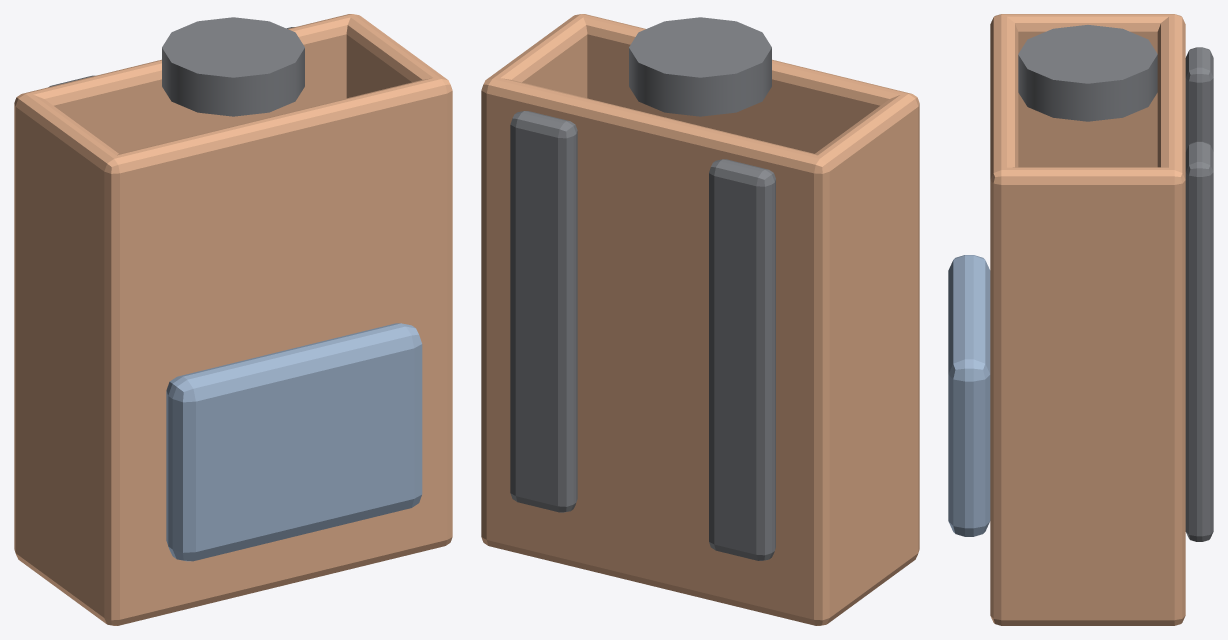
The model's file is backpack.glb.
3 renders of one model, left to right at view 1: azimuth 30°, elevation 25°; view 2: azimuth 150°, elevation 25°; view 3: azimuth 270°, elevation 25°, orthographic. The views are drawn at different scales.
Visible parts, largest first — view 1: bp_front, pocket, bp_left, bp_back, handle.001, bp_right; view 2: bp_back, bp_left, strapR, strapL, bp_front, handle.001, bp_right; view 3: bp_right, bp_back, pocket, handle.001, strapR, bp_front, bp_left, strapL.
Part boxes in pixels (x1,y1,x2,y2): bp_front: (101,77,452,625); pocket: (166,323,422,561); bp_left: (14,92,124,625); bp_back: (14,14,361,561); handle.001: (162,17,304,116); bp_right: (344,14,452,546); bp_back: (481,77,832,625); bp_left: (809,92,918,625); strapR: (510,111,577,512); strapL: (709,159,775,560); bp_front: (572,14,919,561); handle.001: (629,17,771,116); bp_right: (481,14,589,546); bp_right: (990,167,1185,625); bp_back: (1157,14,1185,625); pocket: (948,255,990,536); handle.001: (1018,25,1157,121); strapR: (1185,141,1213,541); bp_front: (990,14,1018,625); bp_left: (990,14,1184,167); strapL: (1185,47,1213,151).
Size of the model in its own units: 0.28 by 0.39 by 0.19.
